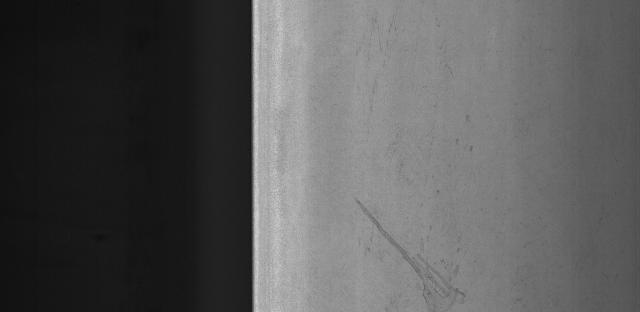water_spot: (351, 191, 484, 311)
